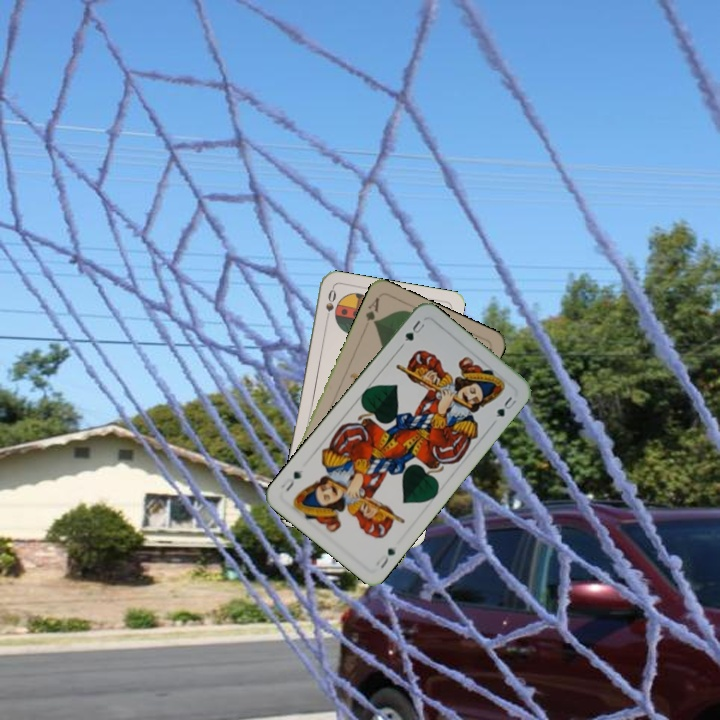GA: (361, 293, 382, 327)
GU: (400, 316, 427, 344), (372, 544, 399, 571)
SO: (321, 285, 339, 325)
